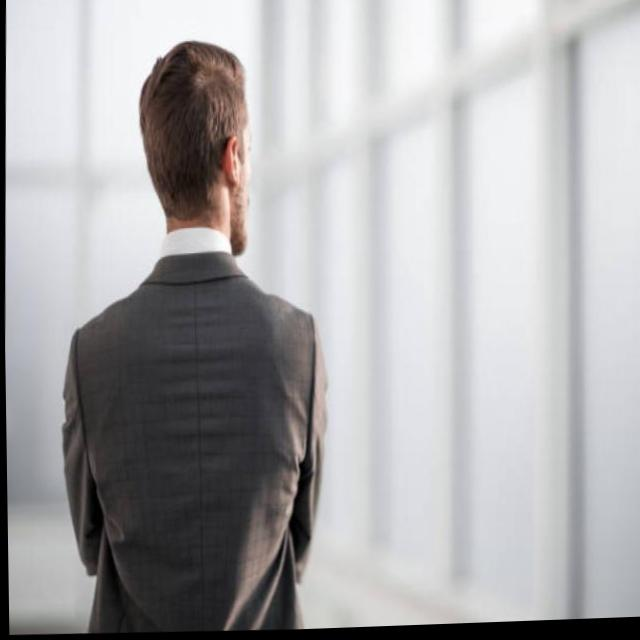no helmet: (118, 34, 276, 281)
